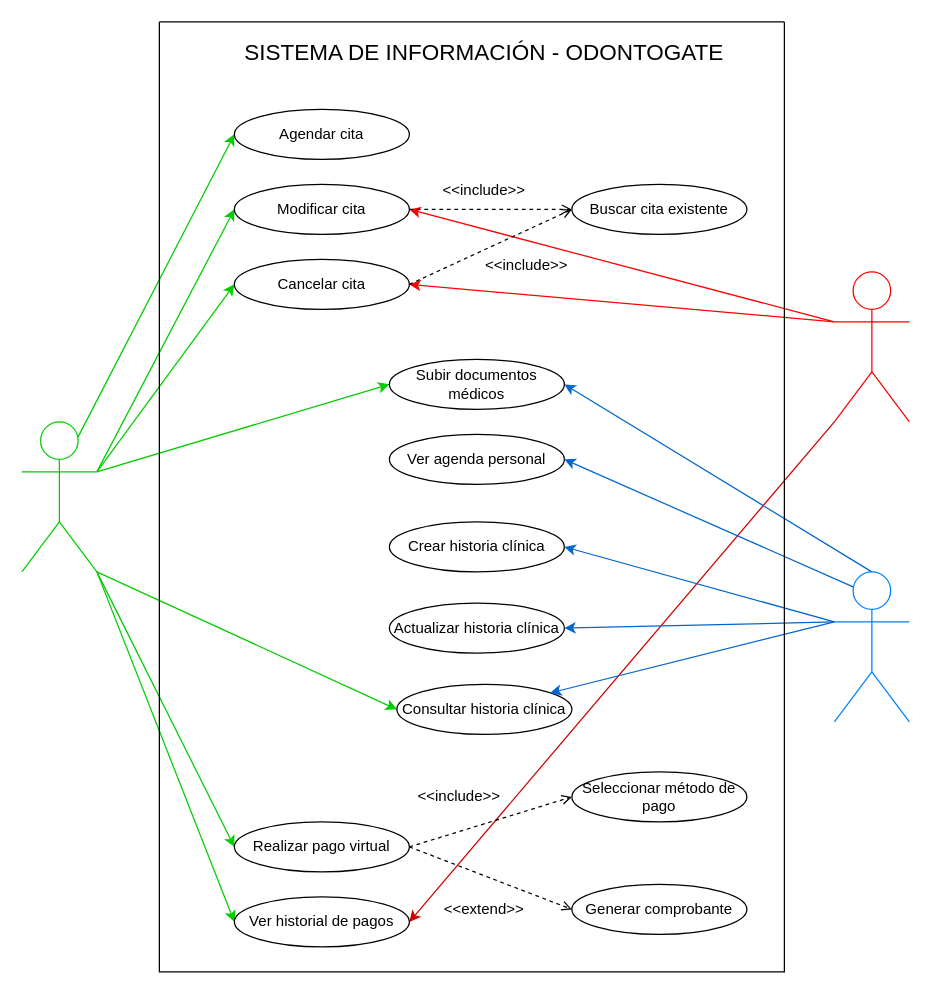
Some shapes in this 940 by 994 pixel diagram are drawn without their labels. Here are the shapes that lost their labels. From the top down, the box of each, then its label:
(833, 271, 909, 422): Administrador
(21, 421, 97, 572): Paciente
(833, 571, 909, 722): Doctor
